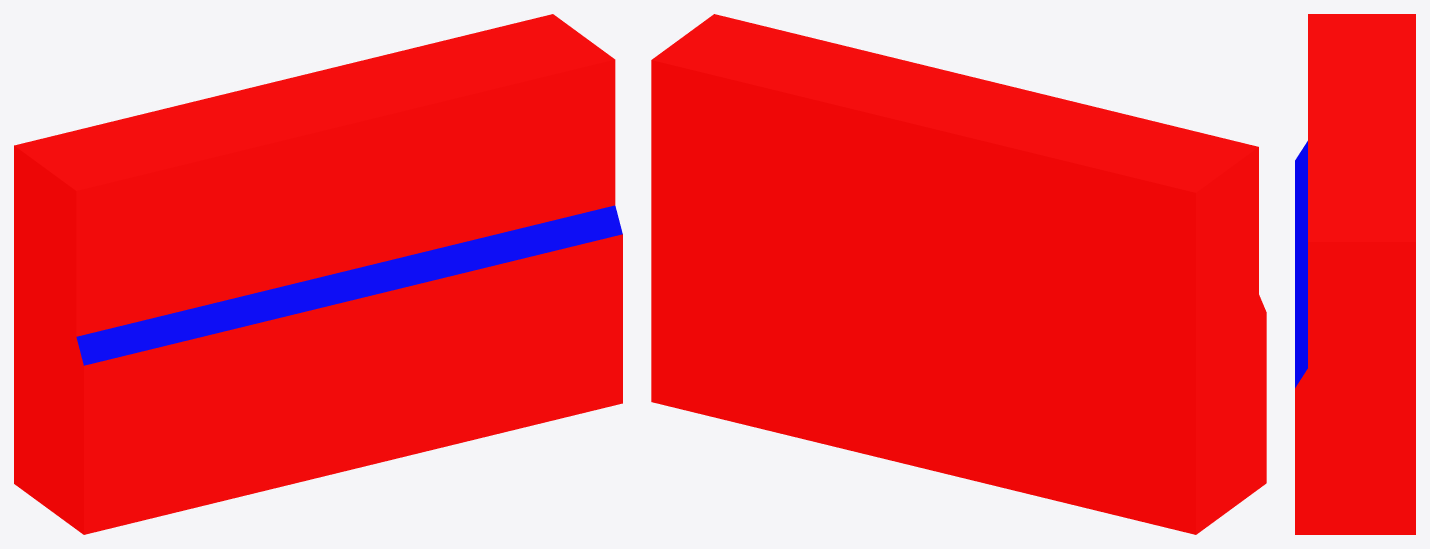
File: DroneWall_WallMid_001.FBX
3 views of the same model, side by side, from view 1: azimuth 30°, elevation 25°; view 2: azimuth 150°, elevation 25°; view 3: azimuth 270°, elevation 25° (orthographic). The views are drawn at different scales.
Parts seen in each view (by area): view 1: WallMid; view 2: WallMid; view 3: WallMid.
Part boxes in pixels (left/top/right/bottom): WallMid: left=14, top=14, right=622, bottom=534; WallMid: left=651, top=14, right=1266, bottom=534; WallMid: left=1295, top=14, right=1415, bottom=534.
Bounding box in the file's own units: 500 × 112 × 300.
